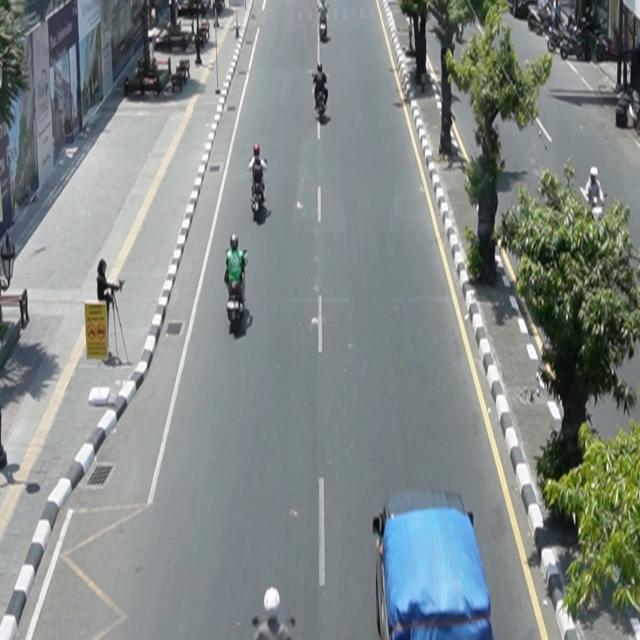car: (373, 490, 496, 640)
